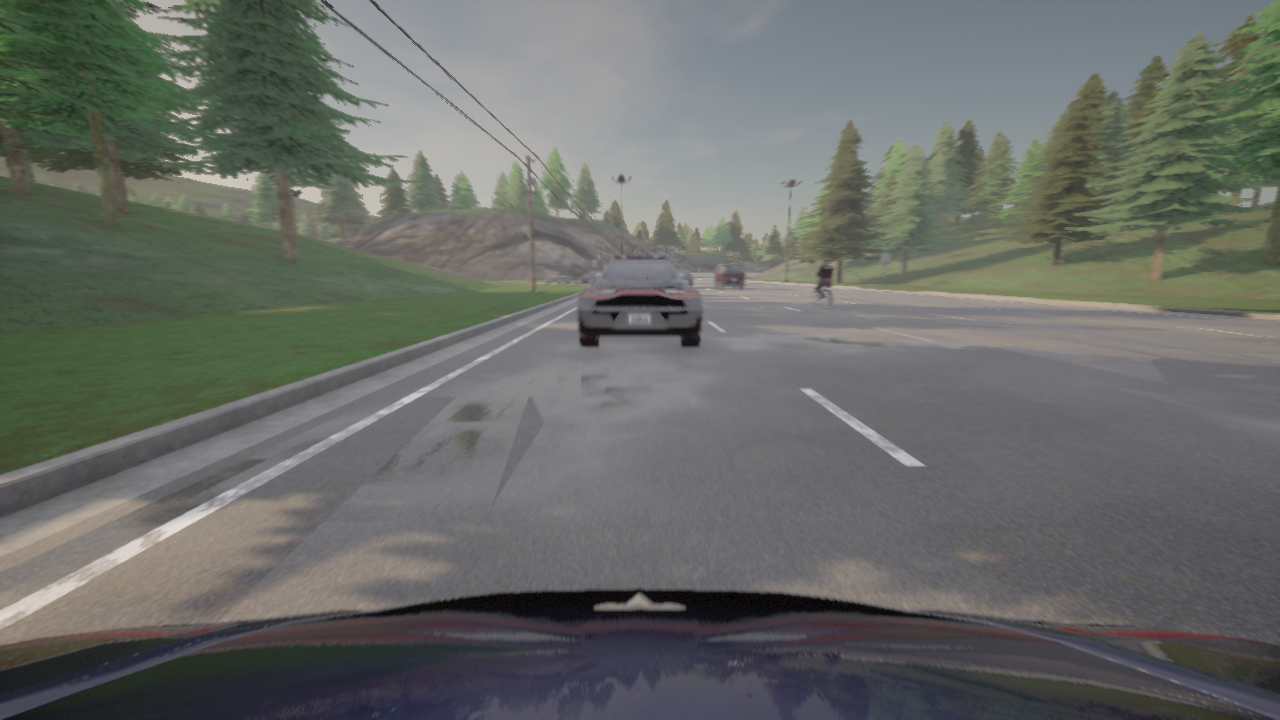cyclist: (0, 588, 1279, 719), (577, 255, 702, 346), (714, 263, 744, 288), (814, 278, 831, 306), (543, 271, 570, 283), (677, 270, 693, 287), (579, 272, 601, 284)
